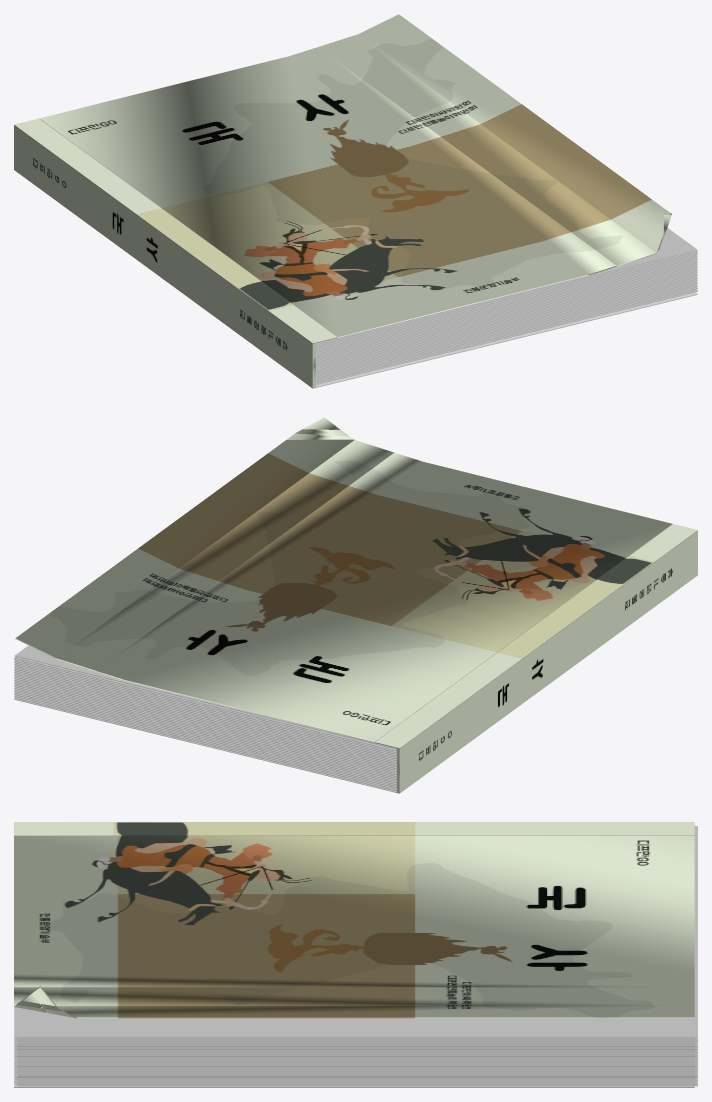
The model's file is 국사책.fbx.
3 views of the same model, one above another, from view 1: azimuth 30°, elevation 25°; view 2: azimuth 150°, elevation 25°; view 3: azimuth 270°, elevation 25° (orthographic). The views are drawn at different scales.
Visible parts, largest first — view 1: cover_motion, papers, bookName, cover_mless, backCover; view 2: cover_motion, papers, bookName, cover_mless; view 3: cover_motion, papers, cover_mless, backCover.
Part boxes in pixels (<box>): cover_motion: <box>39,14,671,337</box>; papers: <box>316,228,697,384</box>; bookName: <box>14,125,315,388</box>; cover_mless: <box>14,118,337,343</box>; backCover: <box>14,170,697,388</box>; cover_motion: <box>15,417,672,742</box>; papers: <box>14,645,396,792</box>; bookName: <box>396,531,697,793</box>; cover_mless: <box>375,524,697,748</box>; cover_motion: <box>14,835,694,1018</box>; papers: <box>14,825,697,1086</box>; cover_mless: <box>14,822,694,835</box>; backCover: <box>14,1007,694,1087</box>.
Size of the model in its own units: 18.63 by 3.62 by 25.12.
Materials: 4 (3 with a texture image).
